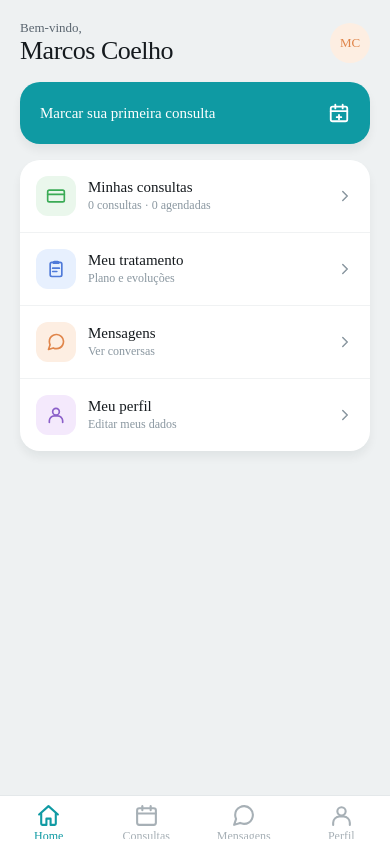
it: Navegação do paciente › "Meu Tratamento" abre o tratamento (S5-06)
Click the button with test id "paciente-avatar" at [350, 43], box [330, 23, 370, 63]
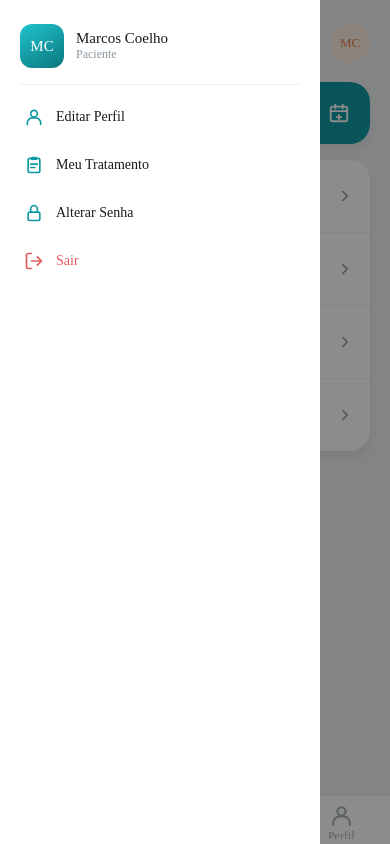
Click the button with test id "menu-meu-tratamento" at [102, 164], box [20, 141, 300, 189]
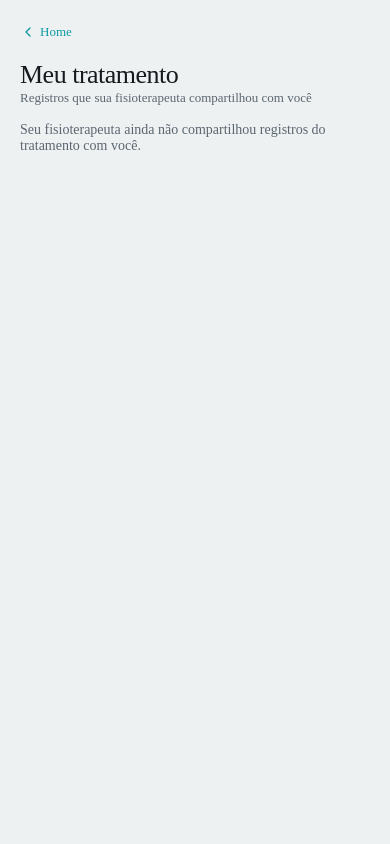
Expected: the button with aria-label "Voltar para Home" is shown, [20, 20, 72, 44]
Expected: the heading "Meu tratamento" is shown, [20, 60, 178, 89]
